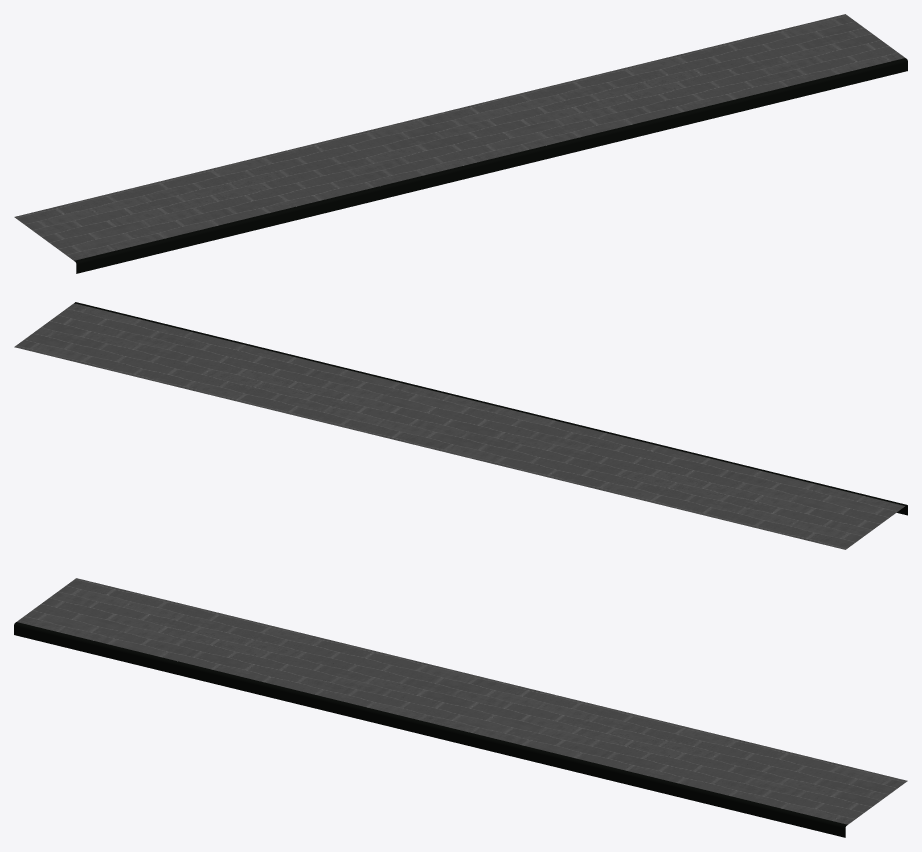
Rendered from VeredaNormal.fbx.
The picture shows the model from 3 angles, top to bottom: view 1: azimuth 30°, elevation 25°; view 2: azimuth 150°, elevation 25°; view 3: azimuth 330°, elevation 25°; orthographic projection.
Parts seen in each view (by area): view 1: Vereda un carril.002; view 2: Vereda un carril.002; view 3: Vereda un carril.002.
Part boxes in pixels (left/top/right/bottom): Vereda un carril.002: left=14, top=14, right=907, bottom=273; Vereda un carril.002: left=14, top=302, right=907, bottom=549; Vereda un carril.002: left=14, top=578, right=907, bottom=837.
Size of the model in its own units: 2000 by 25.91 by 260.
2 materials, 2 textured.
